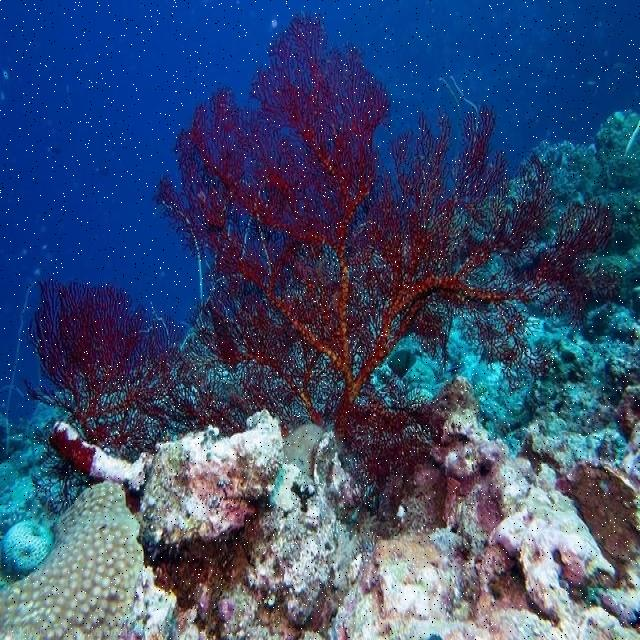reefs: (15, 9, 625, 518), (0, 484, 146, 639), (3, 522, 55, 578)
